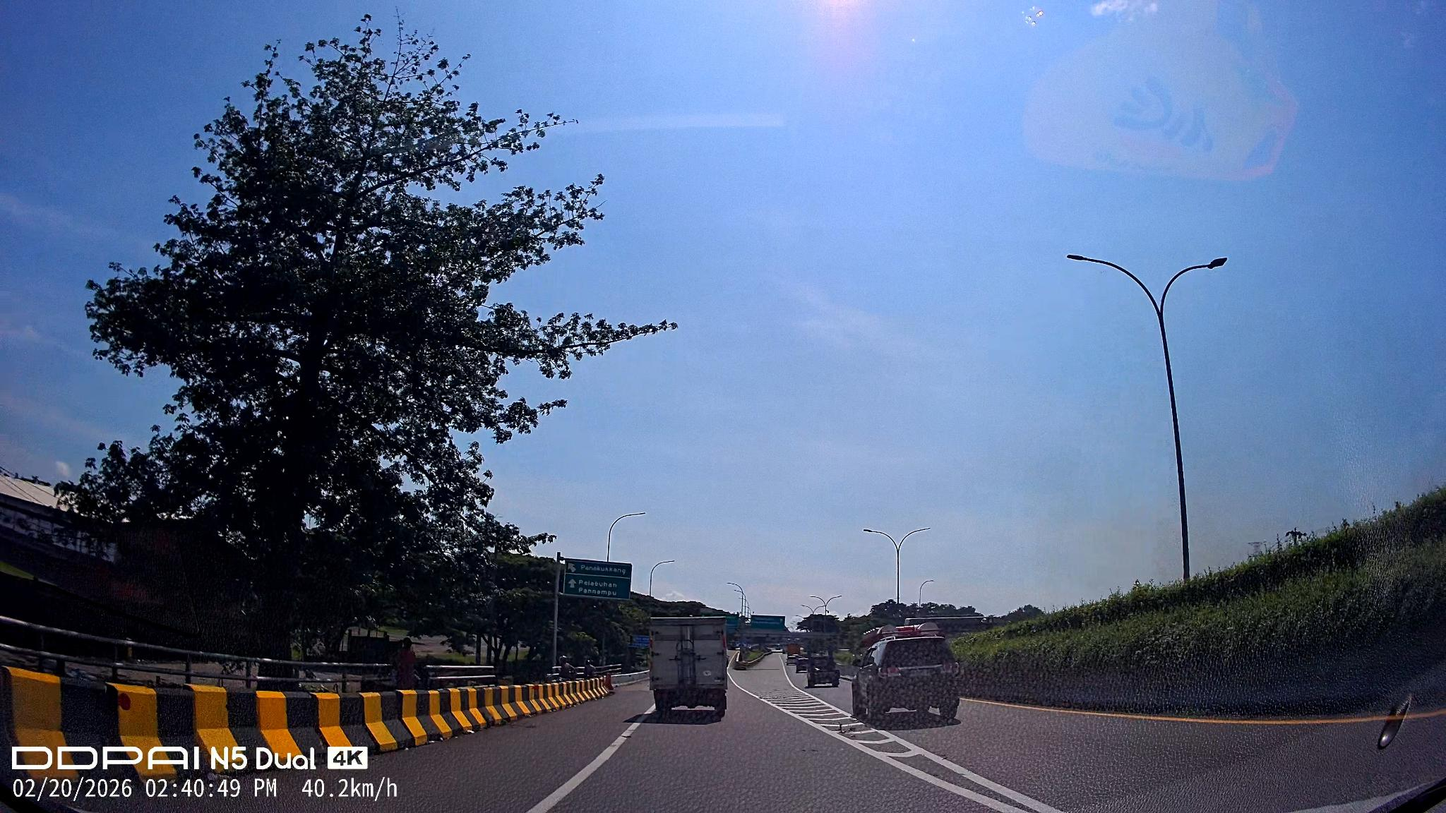rambu_teks: (563, 560, 632, 600)
